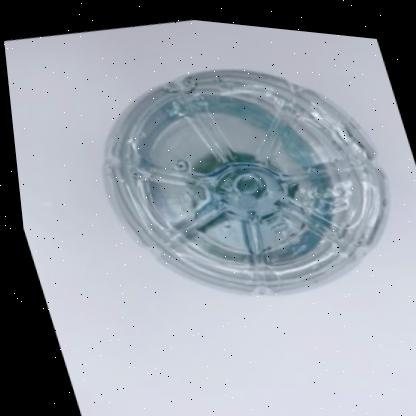Plastic: (101, 62, 385, 288)
